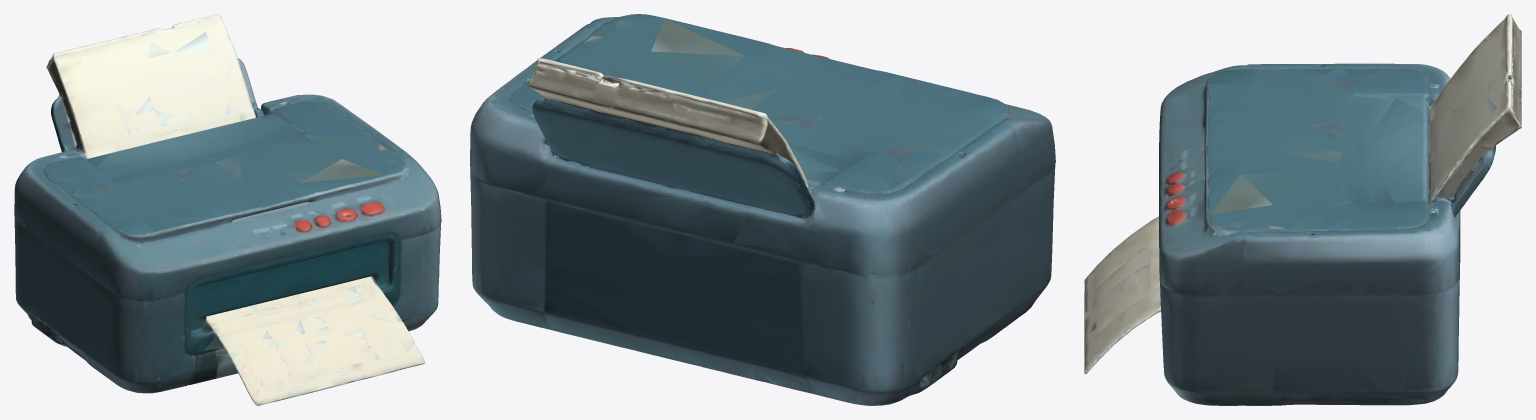
Rendered from sc-news-printer.glb.
3 renders of one model, left to right at view 1: azimuth 30°, elevation 25°; view 2: azimuth 150°, elevation 25°; view 3: azimuth 270°, elevation 25°, orthographic. The views are drawn at different scales.
Parts seen in each view (by area): view 1: geometry_0; view 2: geometry_0; view 3: geometry_0.
Boxes of the visible parts, box(x1,y1,x2,y2) form: geometry_0: box(14, 14, 441, 405); geometry_0: box(470, 14, 1055, 405); geometry_0: box(1084, 14, 1521, 405).
Bounding box in the file's own units: 0.9916 × 0.6626 × 1.
Materials: 1 (1 with a texture image).
